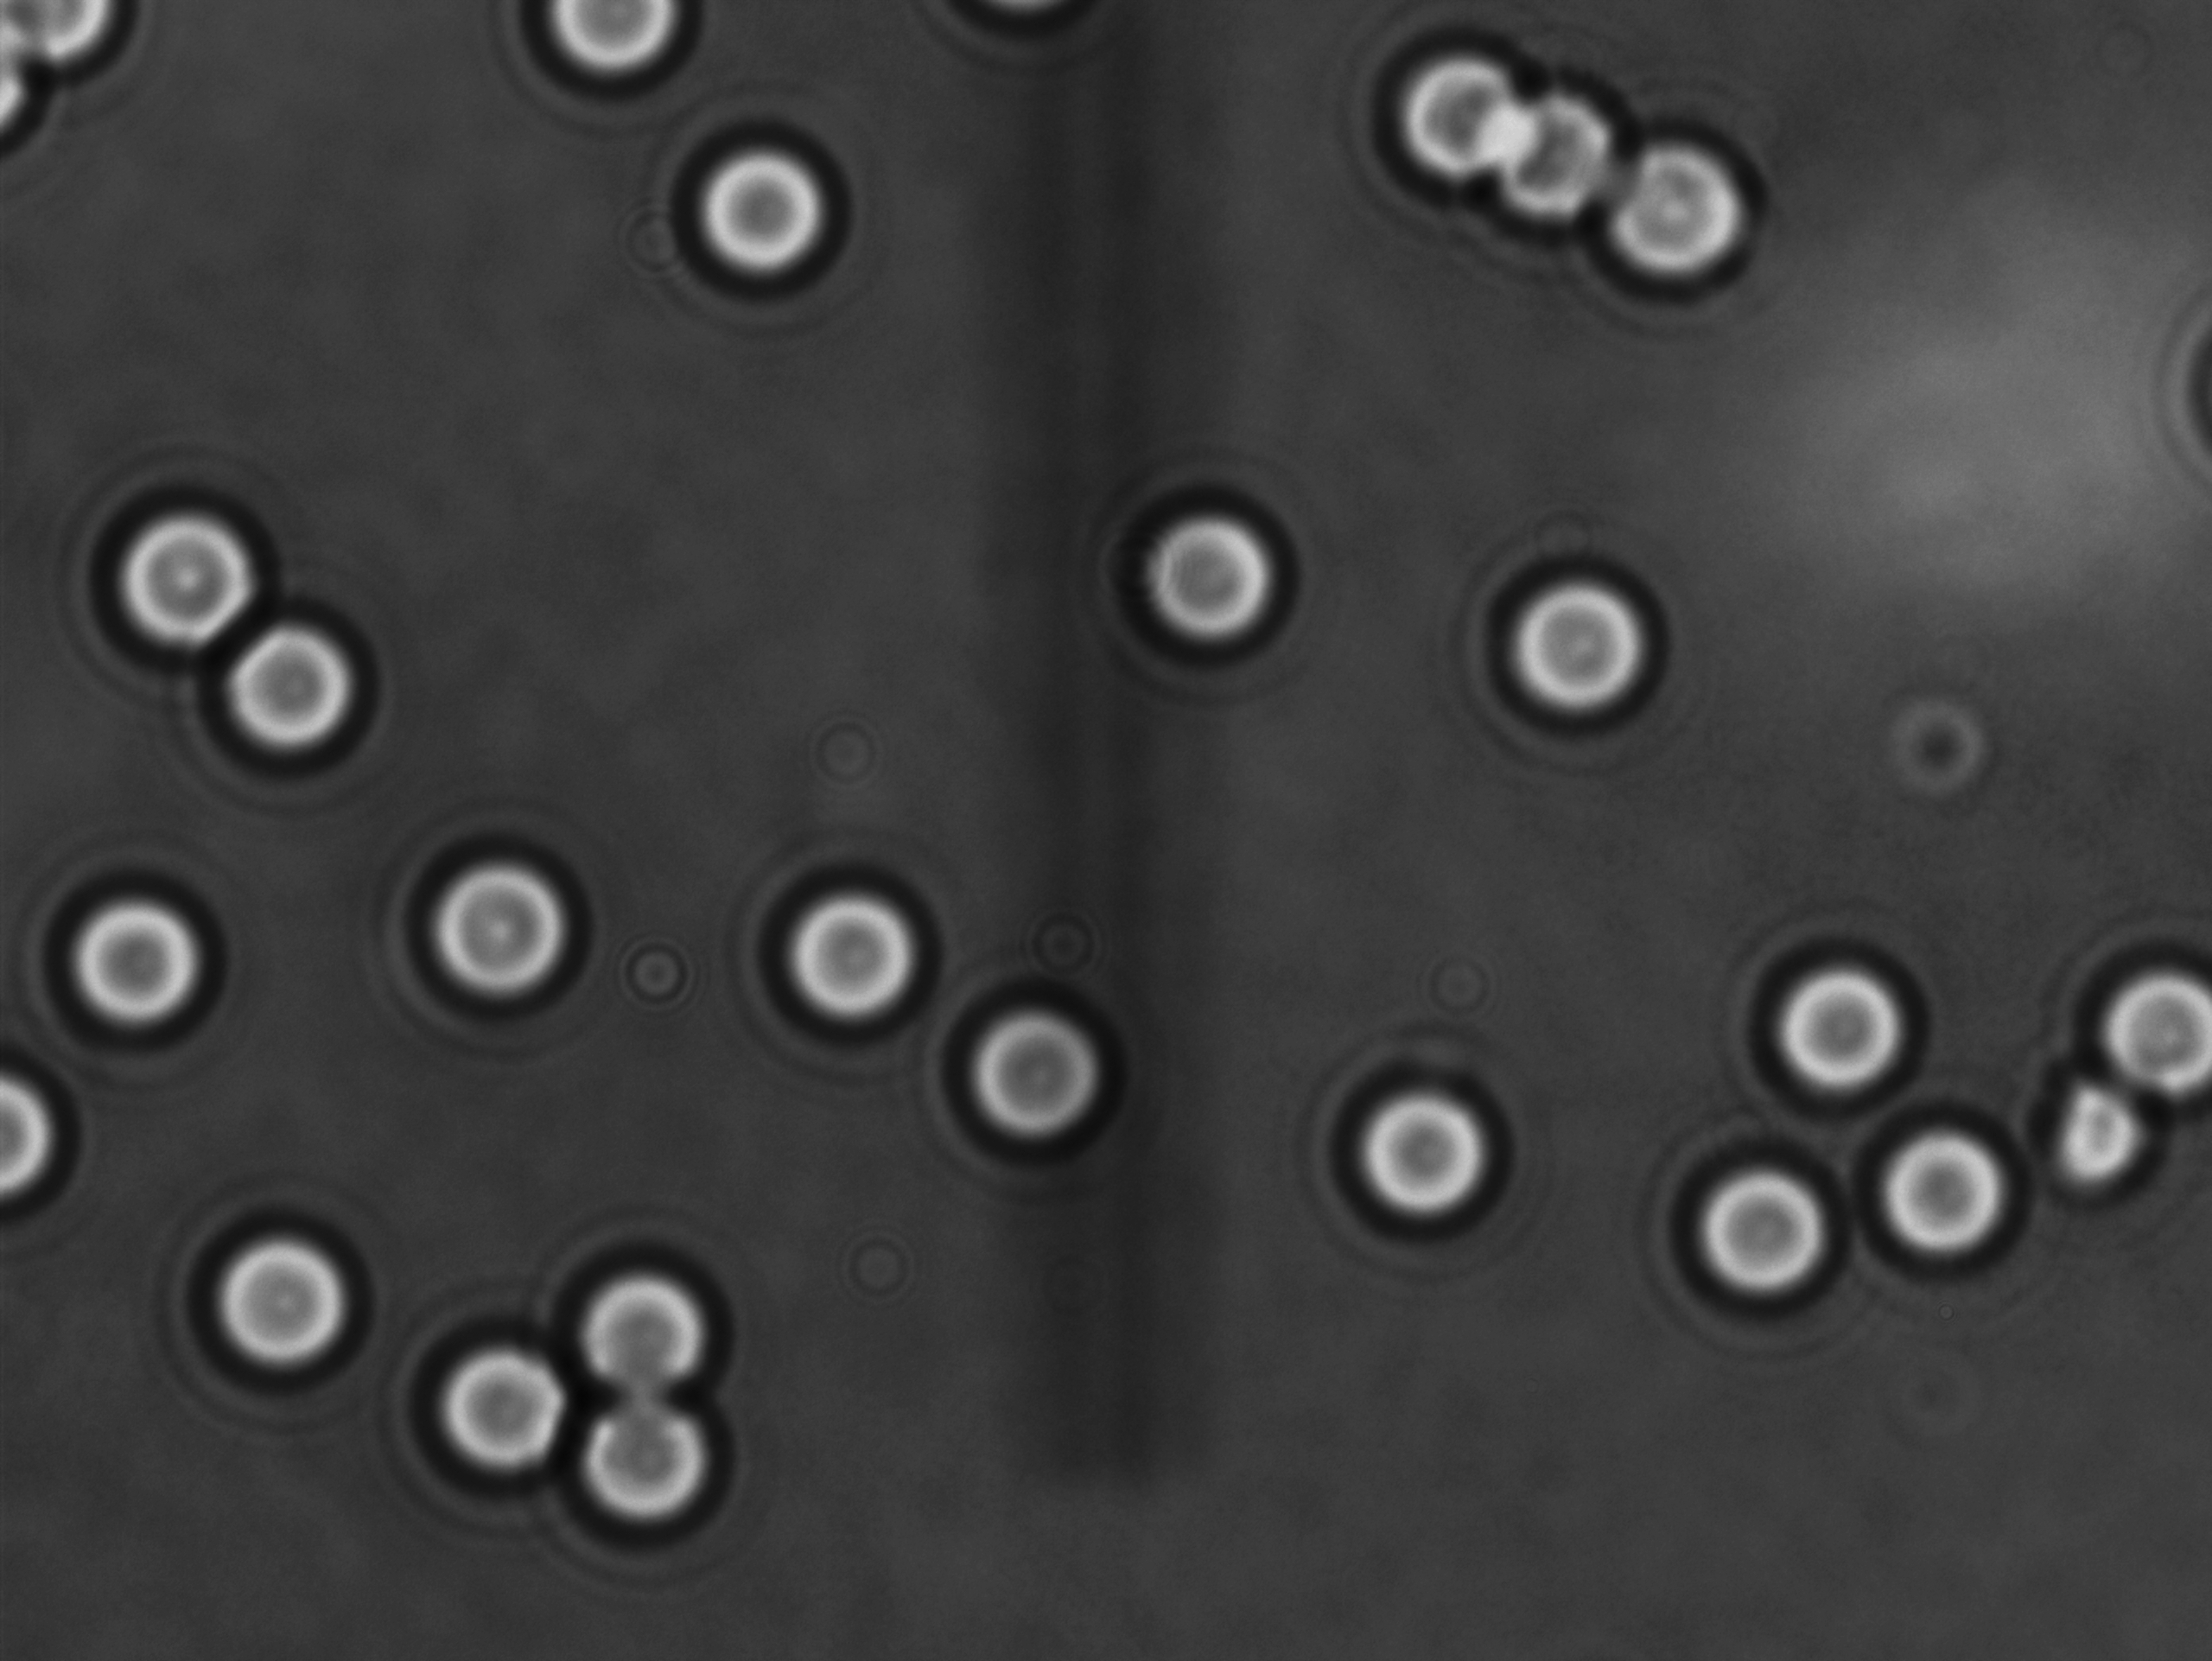depth:60: (387, 817, 630, 1047), (1457, 529, 1697, 750), (1650, 1110, 1870, 1329), (1314, 1033, 1530, 1249), (75, 466, 290, 684), (1729, 914, 1938, 1129), (748, 844, 961, 1050), (26, 860, 244, 1061), (1844, 1073, 2045, 1281), (1104, 466, 1308, 665), (541, 1375, 755, 1562), (405, 1296, 595, 1504), (665, 115, 862, 312), (181, 1197, 384, 1389), (187, 598, 386, 789), (1591, 106, 1778, 309), (935, 972, 1127, 1165), (550, 1241, 748, 1427), (1361, 19, 1546, 213), (2060, 919, 2212, 1129)
